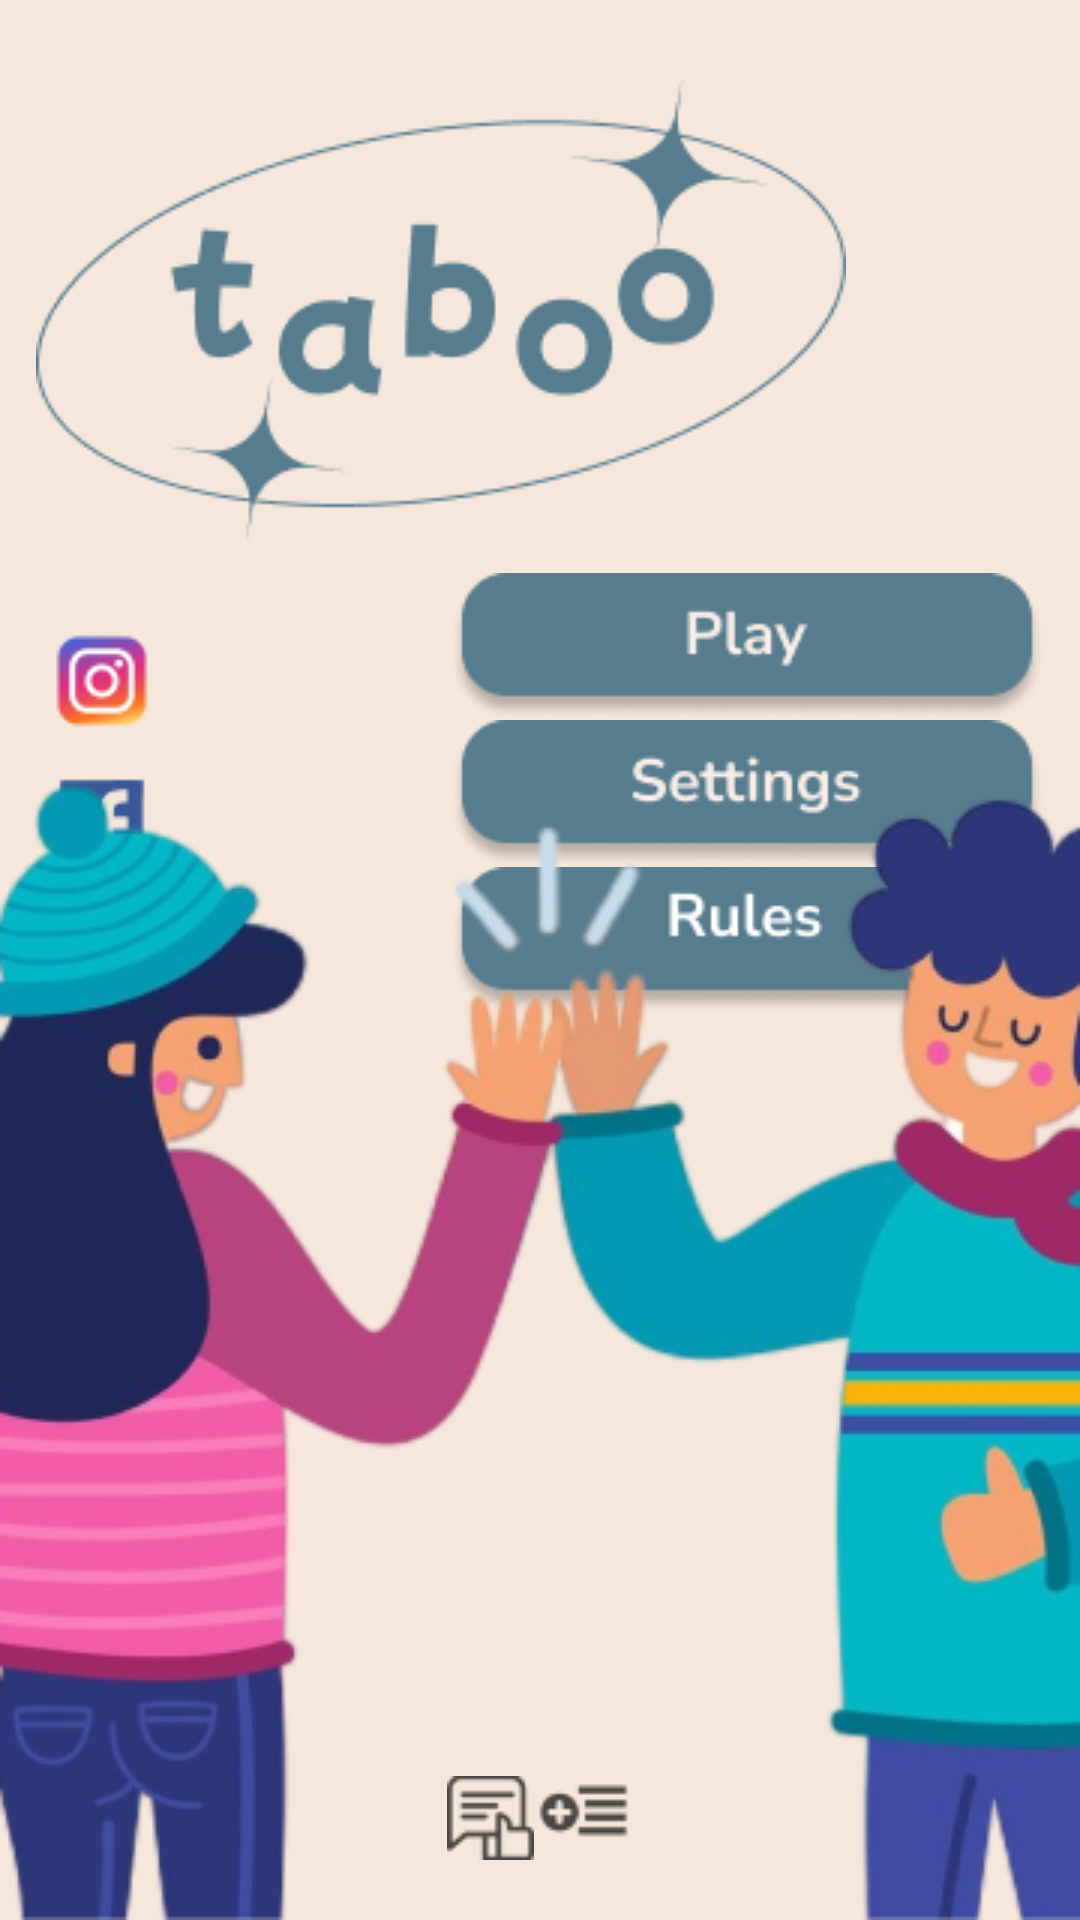

Named icons in this screenshot (1080×1920) and their bounding boxes, (x1, y1, x2, y2):
add: (539, 1784, 628, 1837)
like: (447, 1776, 534, 1860)
